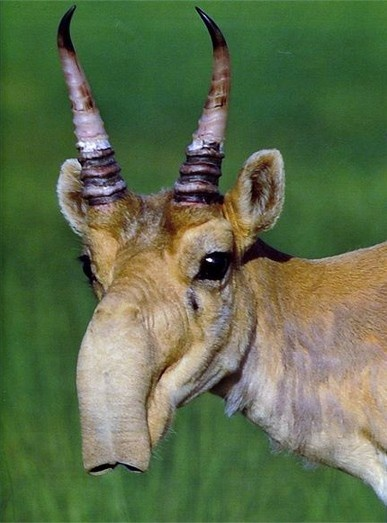saiga: (54, 4, 387, 513)
